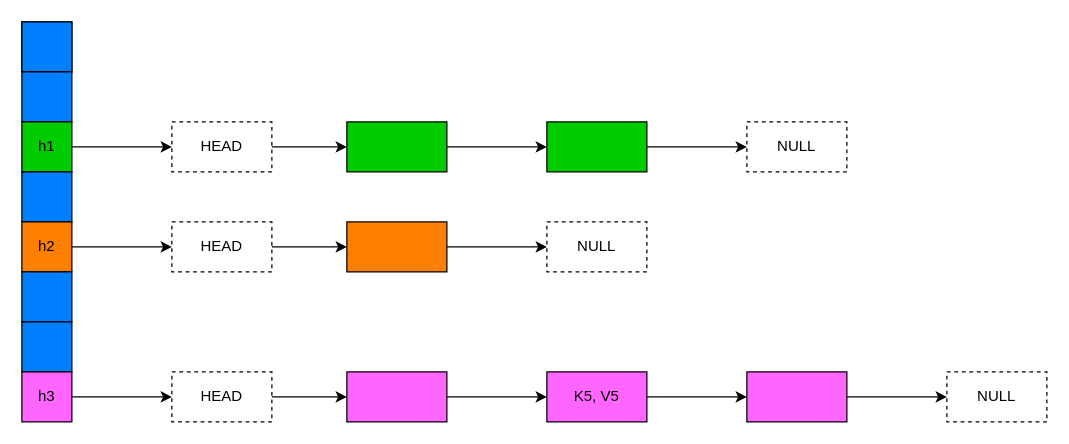
The diagram is 1069 pixels wide and 444 high, and some of its shapes have lost their labels. The centre of each missing label's shape, as x and y in pixels:
K1, V1: the point at 396,146
K2, V2: the point at 596,146
K3, V3: the point at 396,246
K4, V4: the point at 396,396
K6, V6: the point at 796,396
